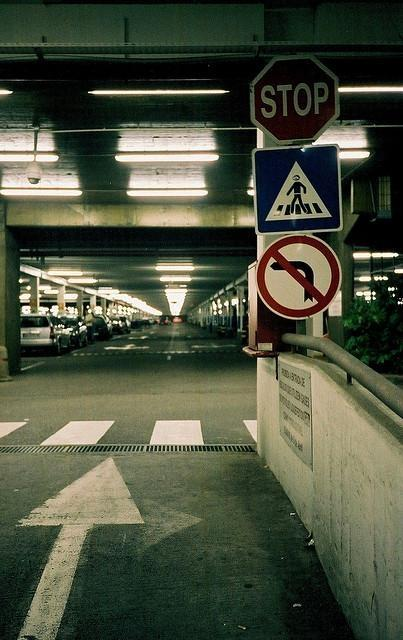car: (22, 314, 72, 356), (62, 318, 93, 350), (84, 312, 114, 340), (112, 318, 128, 334), (120, 317, 132, 333), (157, 316, 172, 324), (130, 321, 140, 328), (173, 316, 182, 322)
